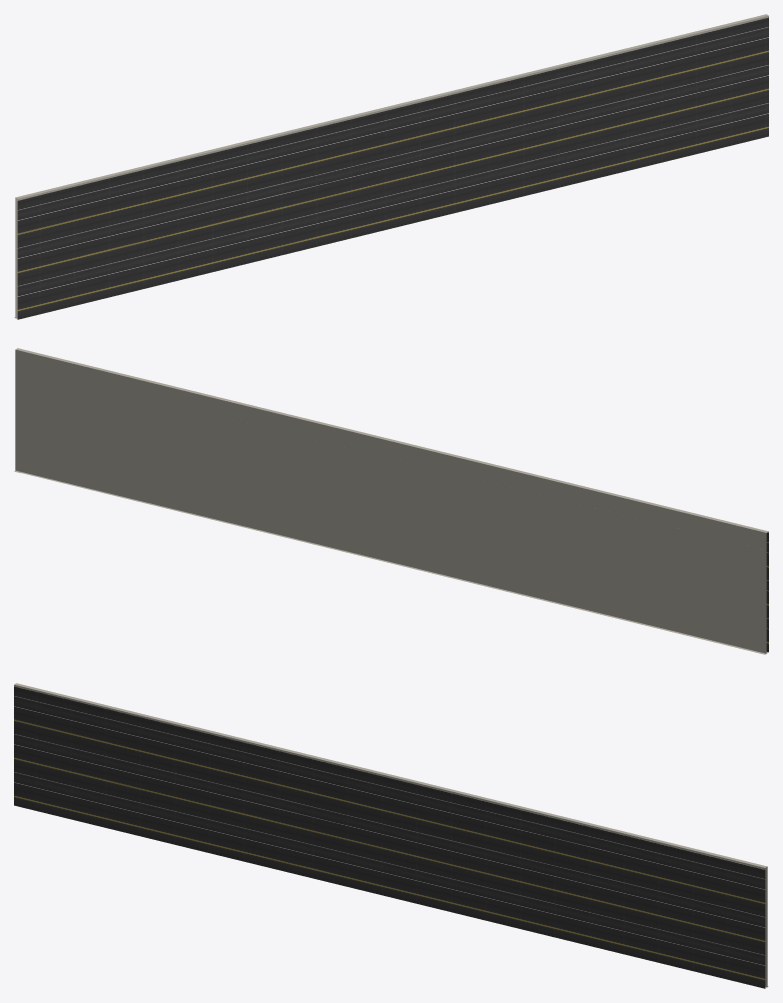
The model's file is deck_03.obj.
The picture shows the model from 3 angles, top to bottom: view 1: azimuth 30°, elevation 25°; view 2: azimuth 150°, elevation 25°; view 3: azimuth 330°, elevation 25°; orthographic projection.
Parts seen in each view (by area): view 1: _12, _8; view 2: _8; view 3: _12, _8.
Part boxes in pixels (x1,y1,x2,y2): _12: (17, 17, 768, 319); _8: (14, 14, 768, 319); _8: (14, 348, 768, 654); _12: (14, 686, 765, 988); _8: (14, 683, 768, 988).
Bounding box in the file's own units: 35.65 × 5.48 × 0.311.
